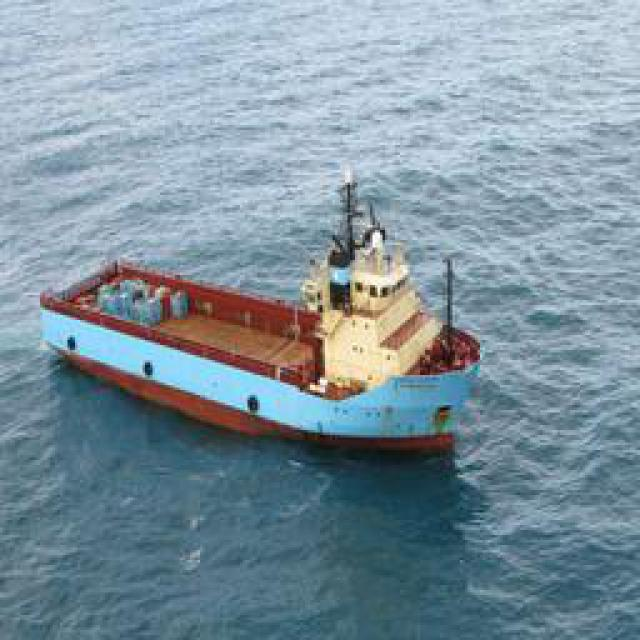Ship: (46, 156, 481, 454)
